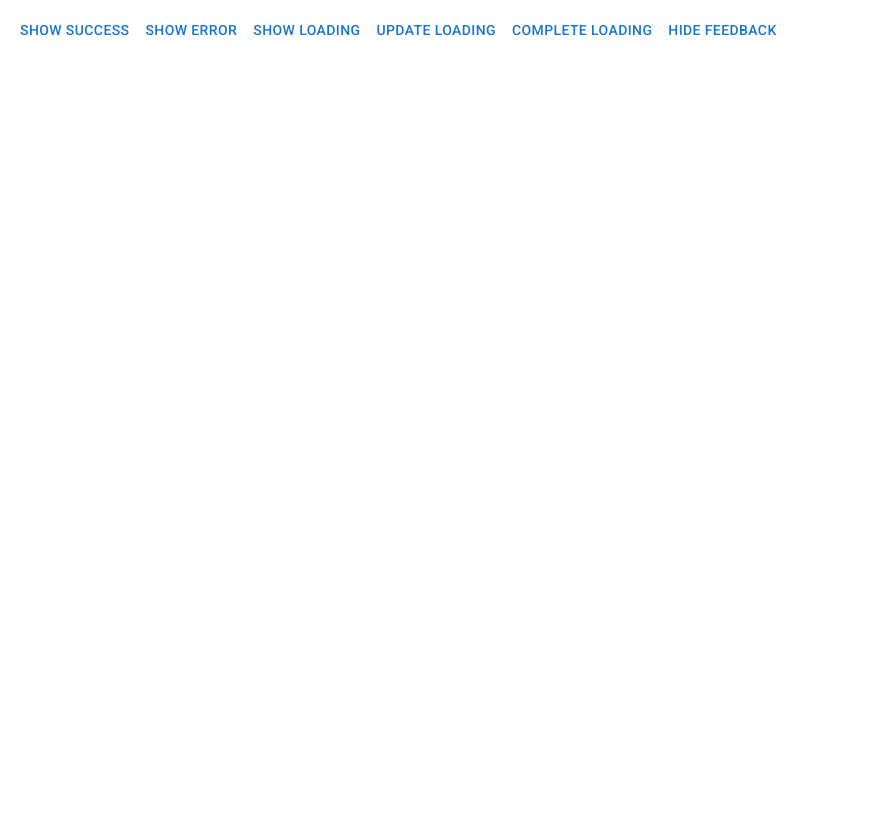
Scenario: ActionFeedbackContext › should show error feedback
Click the show error button
Click the button with test id "show-error" at (191, 30), box [137,12,245,48]
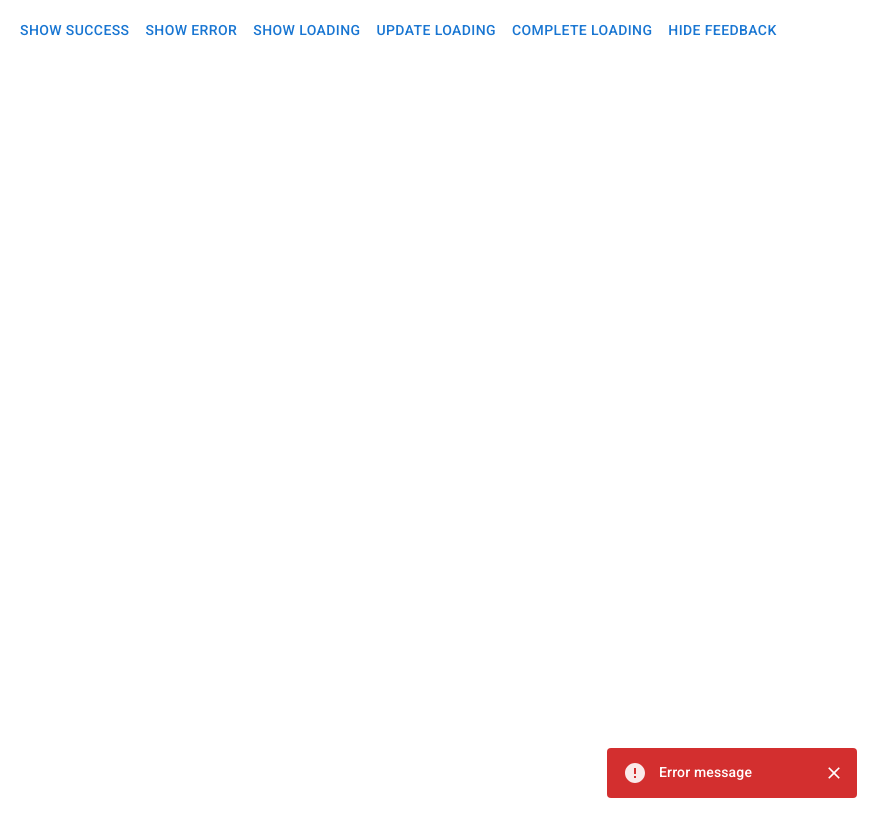
Check: the text "Error message" is shown, box [659,762,752,782]
